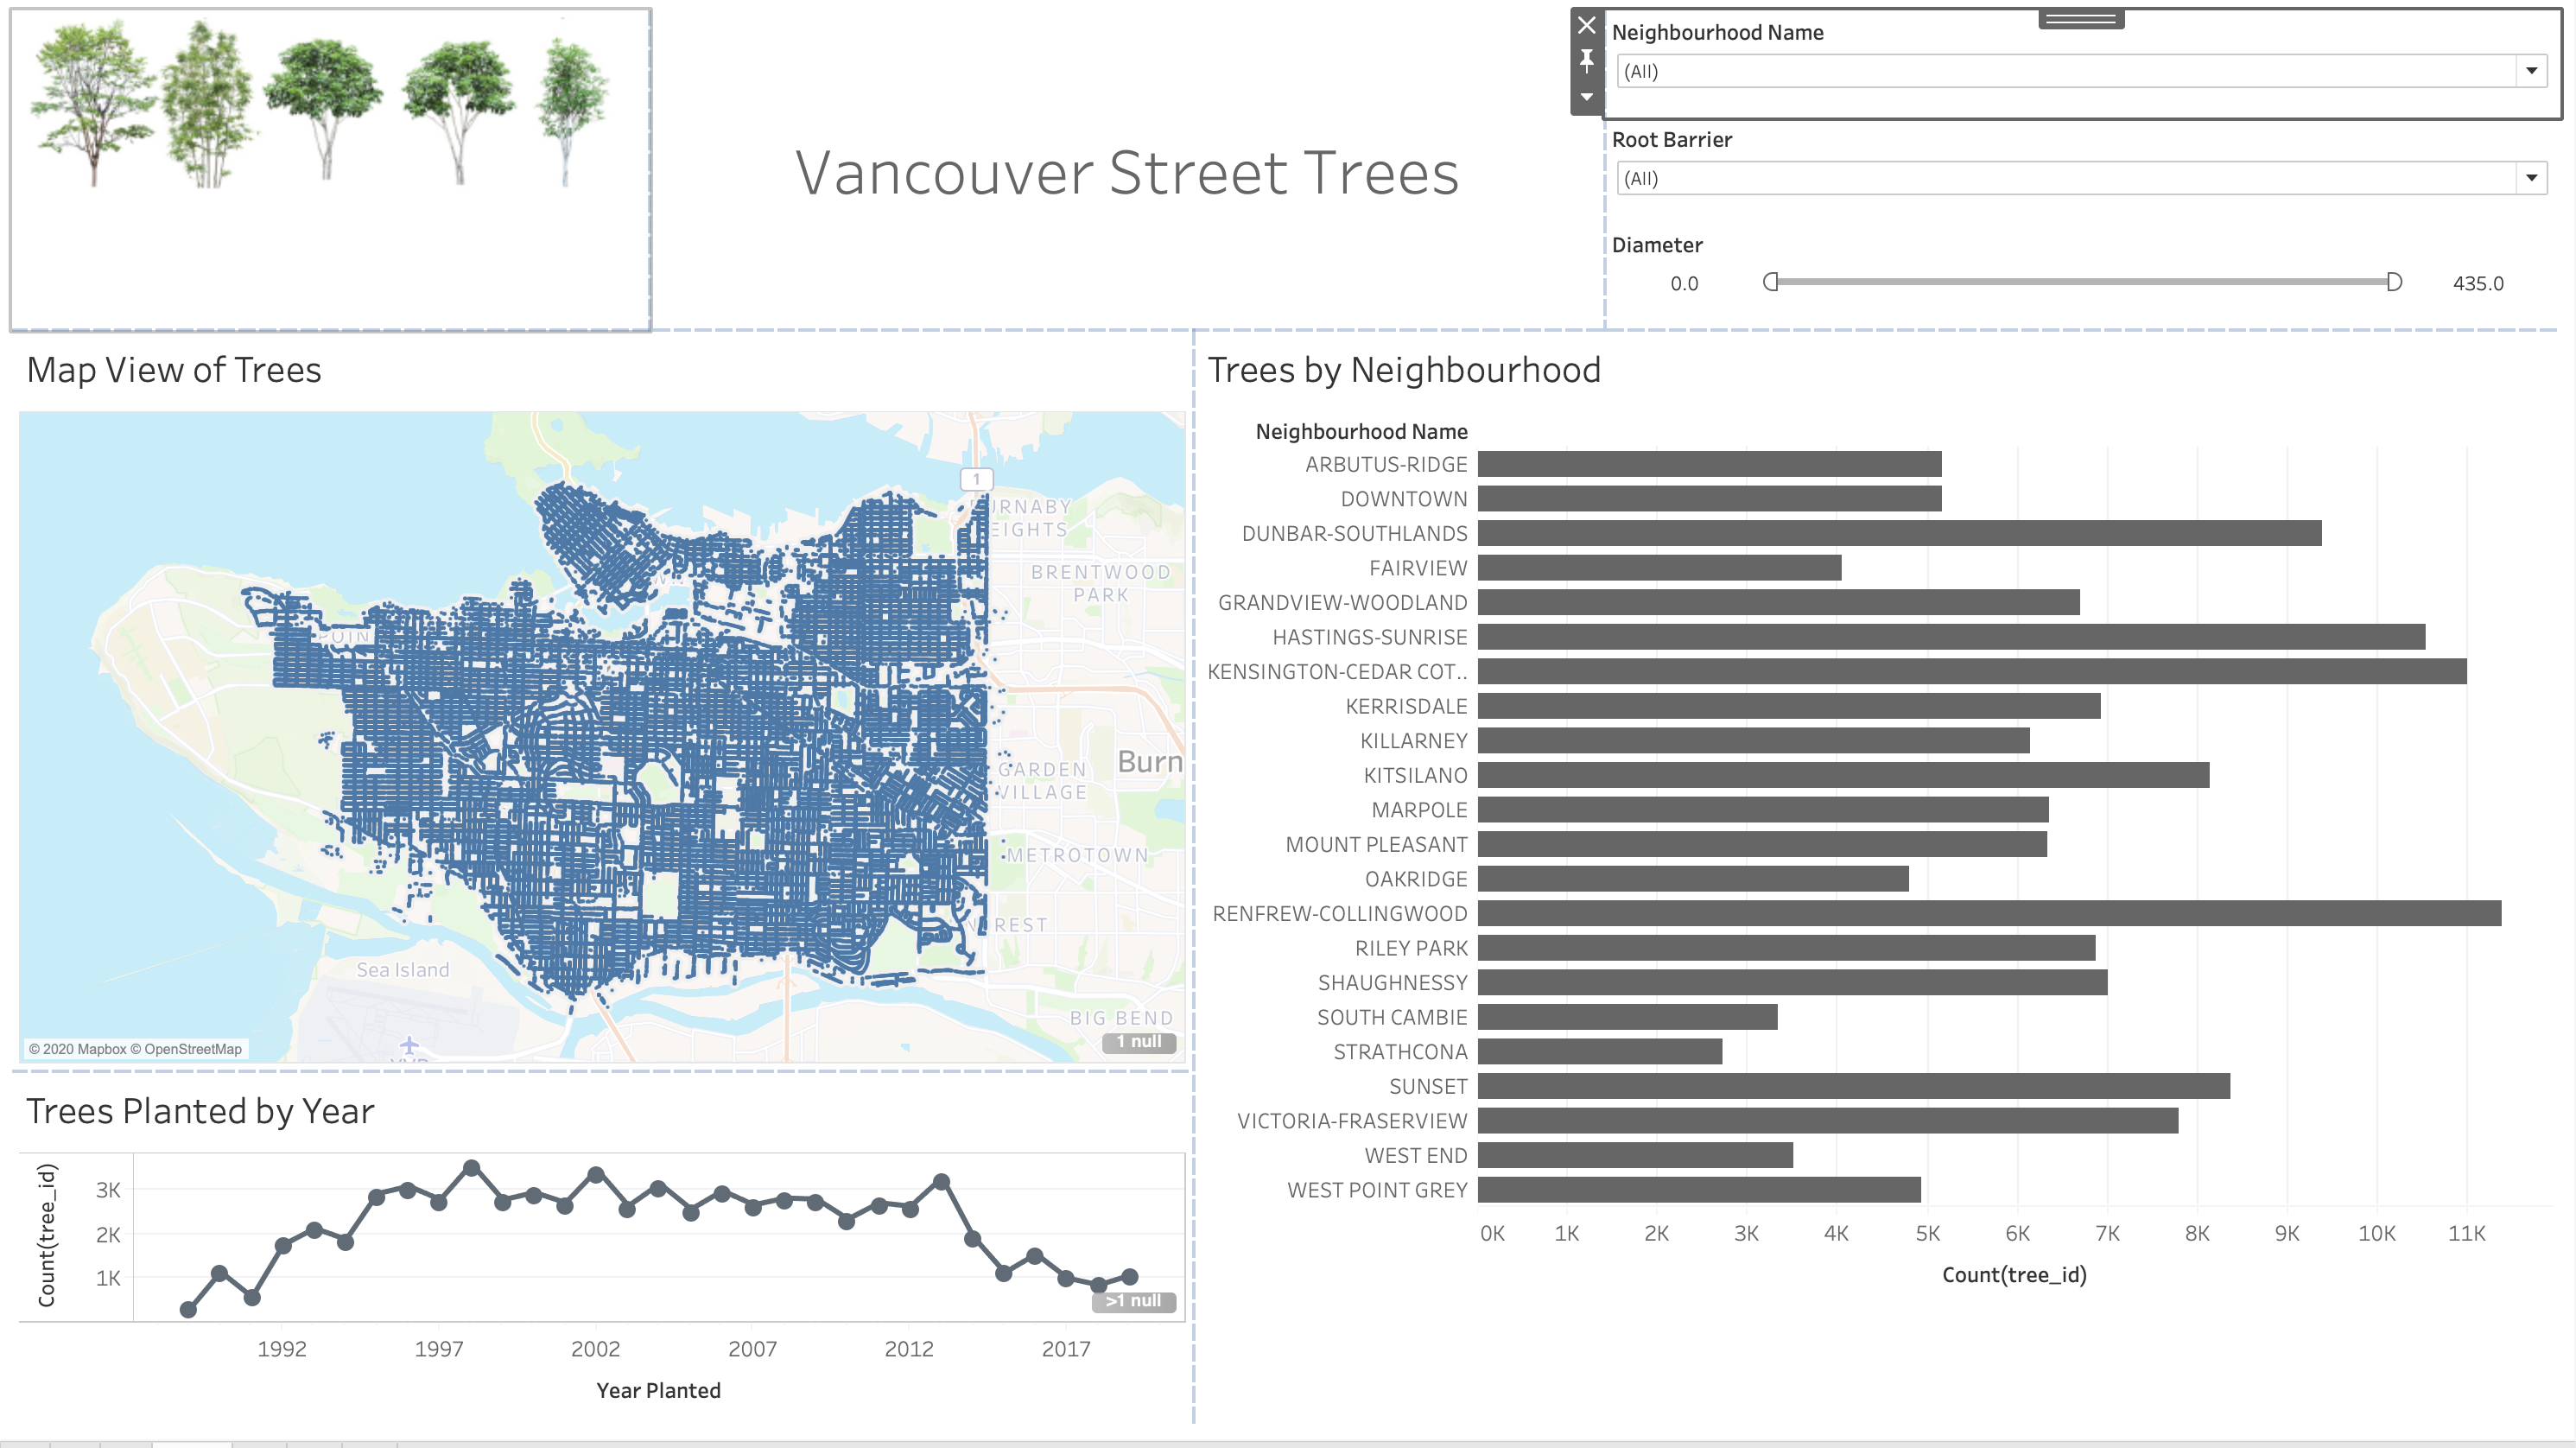

The dashboard page shown, as its layout file describes it:
{"tool":"tableau","page":{"name":"E1","canvas":[1000,1000],"units":"permille","ordinal":0},"visuals":[{"type":"worksheet","box":[0,0,1000,1000]},{"type":"worksheet","param":"/Users/josepena97/Documents/202003Fall/COSC301/Labs/data301-lab7-josepena97/data","box":[5.5,9.6,247.3,221.6]},{"type":"worksheet","box":[252.7,9.6,370.9,221.6]},{"type":"worksheet","param":"vert","box":[623.6,9.6,370.9,221.6]},{"type":"worksheet","title":"B1","mark":"Automatic","rows":["neighbourhood_name"],"cols":["tree_id"],"param":"[federated.0ca0xgl1jjs7bh1dx8i5t09ylmet].[none:neighbourhood_name:nk]","box":[623.6,9.6,370.9,73.9]},{"type":"worksheet","title":"B1","mark":"Automatic","rows":["neighbourhood_name"],"cols":["tree_id"],"param":"[federated.0ca0xgl1jjs7bh1dx8i5t09ylmet].[none:root_barrier:nk]","box":[623.6,83.4,370.9,73.9]},{"type":"worksheet","title":"B1","mark":"Automatic","rows":["neighbourhood_name"],"cols":["tree_id"],"param":"[federated.0ca0xgl1jjs7bh1dx8i5t09ylmet].[none:diameter:qk]","box":[623.6,157.3,370.9,73.9]},{"type":"worksheet","title":"D1","mark":"Automatic","rows":["latitude"],"cols":["longitude"],"box":[5.5,231.1,458.7,514.1]},{"type":"worksheet","title":"B1","mark":"Automatic","rows":["neighbourhood_name"],"cols":["tree_id"],"box":[464.1,231.1,530.4,759.3]},{"type":"worksheet","title":"C1","mark":"Line","rows":["tree_id","tree_id"],"cols":["date_planted"],"box":[5.5,745.2,458.7,245.2]}]}

Visuals, with their boxes on the dashboard's canvas, which has no fixed pixel size, in thousandths of its width and height (x1, y1, x2, y2). These are canvas units, not pixel positions in the 2576x1448 screenshot, which may show the page scaled, cropped or inside an application window:
worksheet: x1=0, y1=0, x2=1000, y2=1000
worksheet: x1=6, y1=10, x2=253, y2=231
worksheet: x1=253, y1=10, x2=624, y2=231
worksheet: x1=624, y1=10, x2=994, y2=231
"B1" worksheet: x1=624, y1=10, x2=994, y2=84
"B1" worksheet: x1=624, y1=83, x2=994, y2=157
"B1" worksheet: x1=624, y1=157, x2=994, y2=231
"D1" worksheet: x1=6, y1=231, x2=464, y2=745
"B1" worksheet: x1=464, y1=231, x2=994, y2=990
"C1" worksheet (Line marks): x1=6, y1=745, x2=464, y2=990
